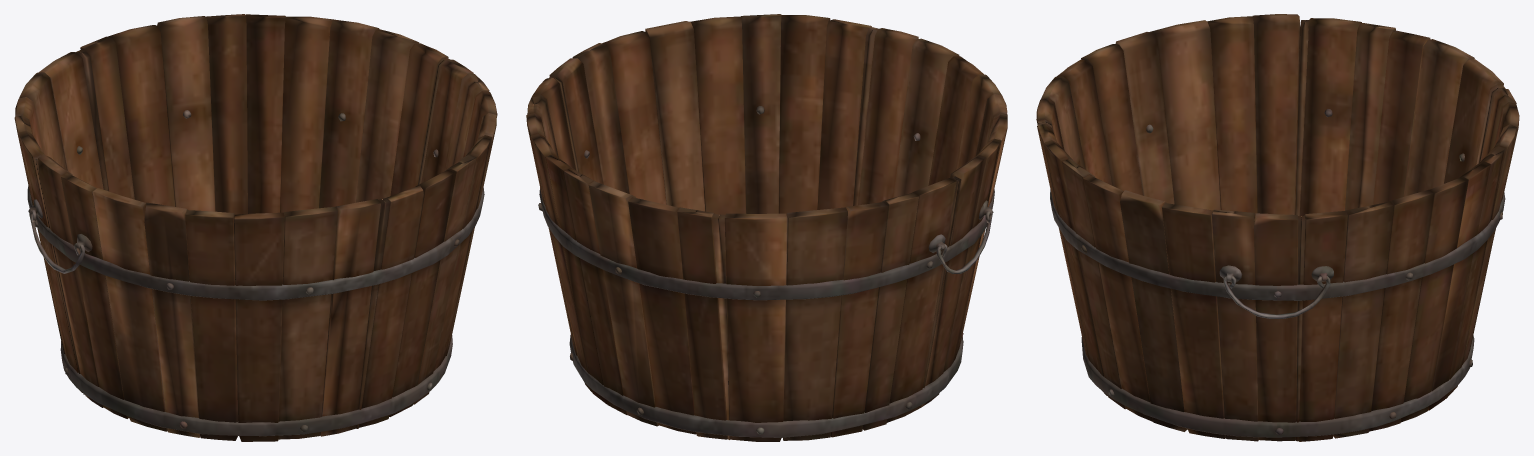
File: wooden_bucket_02.glb
3 views of the same model, side by side, from view 1: azimuth 30°, elevation 25°; view 2: azimuth 150°, elevation 25°; view 3: azimuth 270°, elevation 25° (orthographic).
Parts seen in each view (by area): view 1: wooden_bucket_02; view 2: wooden_bucket_02; view 3: wooden_bucket_02.
Part boxes in pixels (left/top/right/bottom): wooden_bucket_02: left=14, top=14, right=497, bottom=441; wooden_bucket_02: left=526, top=14, right=1007, bottom=441; wooden_bucket_02: left=1036, top=14, right=1519, bottom=441.
Size of the model in its own units: 0.6153 by 0.3504 by 0.6163.
1 material, 1 textured.
